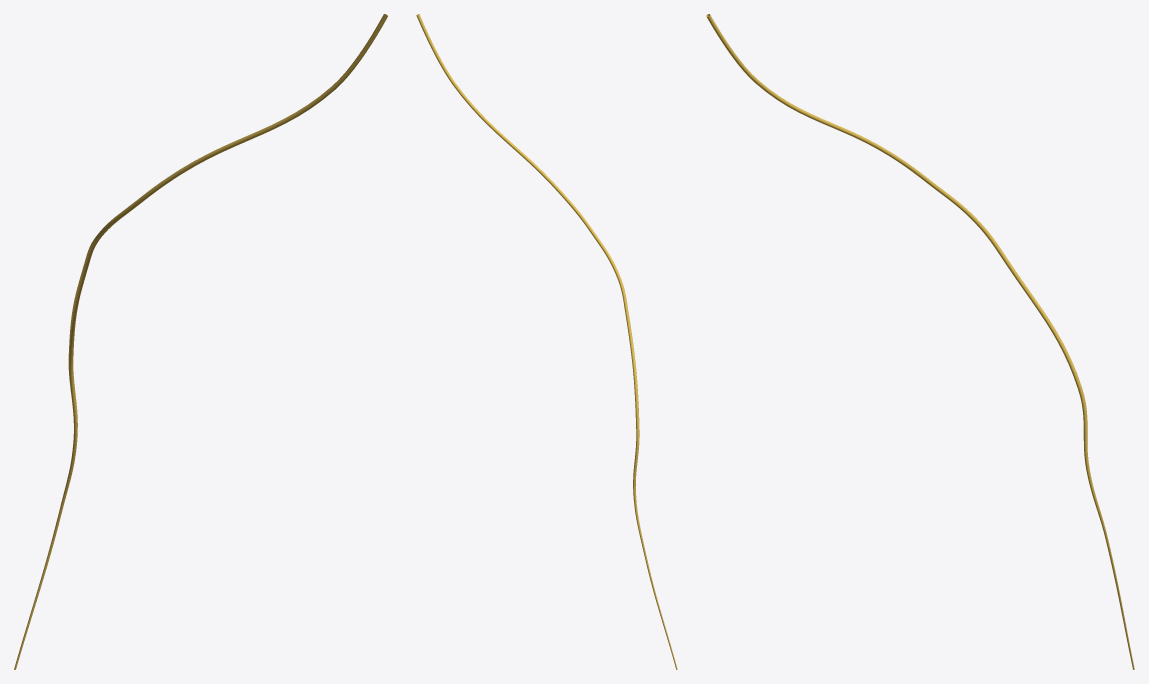
File: Dorsal_scapular_nerve_right.glb
3 renders of one model, left to right at view 1: azimuth 30°, elevation 25°; view 2: azimuth 210°, elevation 25°; view 3: azimuth 270°, elevation 25°, orthographic. The views are drawn at different scales.
Parts seen in each view (by area): view 1: Dorsal_scapular_nerve.r_BezierCurve.529; view 2: Dorsal_scapular_nerve.r_BezierCurve.529; view 3: Dorsal_scapular_nerve.r_BezierCurve.529.
Boxes of the visible parts, <box> form: Dorsal_scapular_nerve.r_BezierCurve.529: <box>14,14,387,669</box>; Dorsal_scapular_nerve.r_BezierCurve.529: <box>416,14,677,669</box>; Dorsal_scapular_nerve.r_BezierCurve.529: <box>706,14,1134,669</box>.
Bounding box in the file's own units: 0.0332 × 0.1789 × 0.0974.
